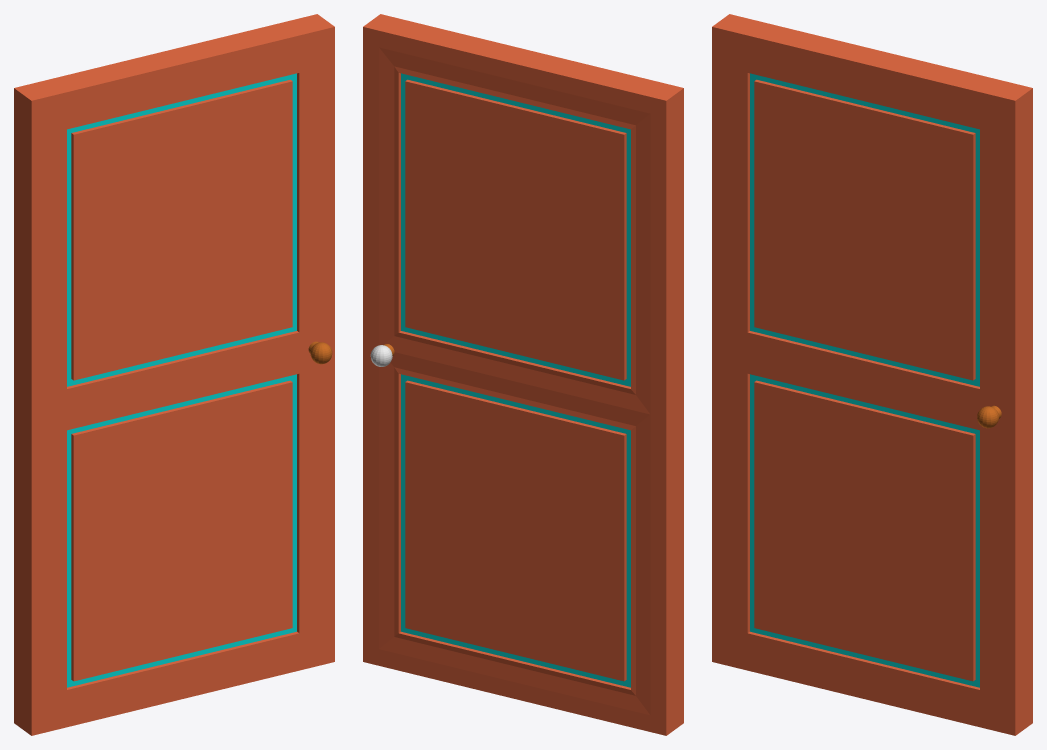
The model's file is interior_door.fbx.
3 views of the same model, side by side, from view 1: azimuth 30°, elevation 25°; view 2: azimuth 150°, elevation 25°; view 3: azimuth 330°, elevation 25° (orthographic).
Parts seen in each view (by area): view 1: Plane; view 2: Plane; view 3: Plane.
Boxes of the visible parts, x1,y1,x2,y2 form: Plane: (14, 14, 334, 735); Plane: (363, 14, 683, 735); Plane: (712, 14, 1032, 735).
Bounding box in the file's own units: 2 × 4 × 0.4858.
